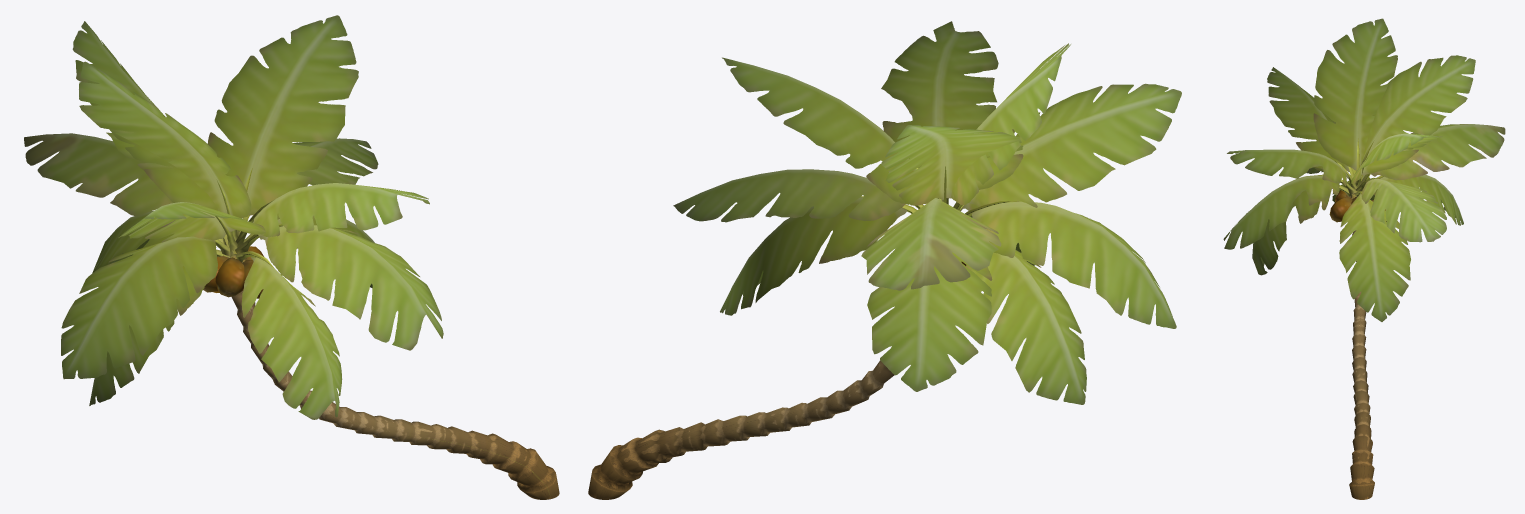
Rendered from coconut palm 01_lod1.obj.
3 views of the same model, side by side, from view 1: azimuth 30°, elevation 25°; view 2: azimuth 150°, elevation 25°; view 3: azimuth 270°, elevation 25° (orthographic). The views are drawn at different scales.
Visible parts, largest first — view 1: tree; view 2: tree; view 3: tree.
Part boxes in pixels (left/top/right/bottom): tree: left=24, top=15, right=559, bottom=499; tree: left=588, top=21, right=1181, bottom=499; tree: left=1223, top=18, right=1505, bottom=499.
Size of the model in its own units: 555 by 542 by 423.
